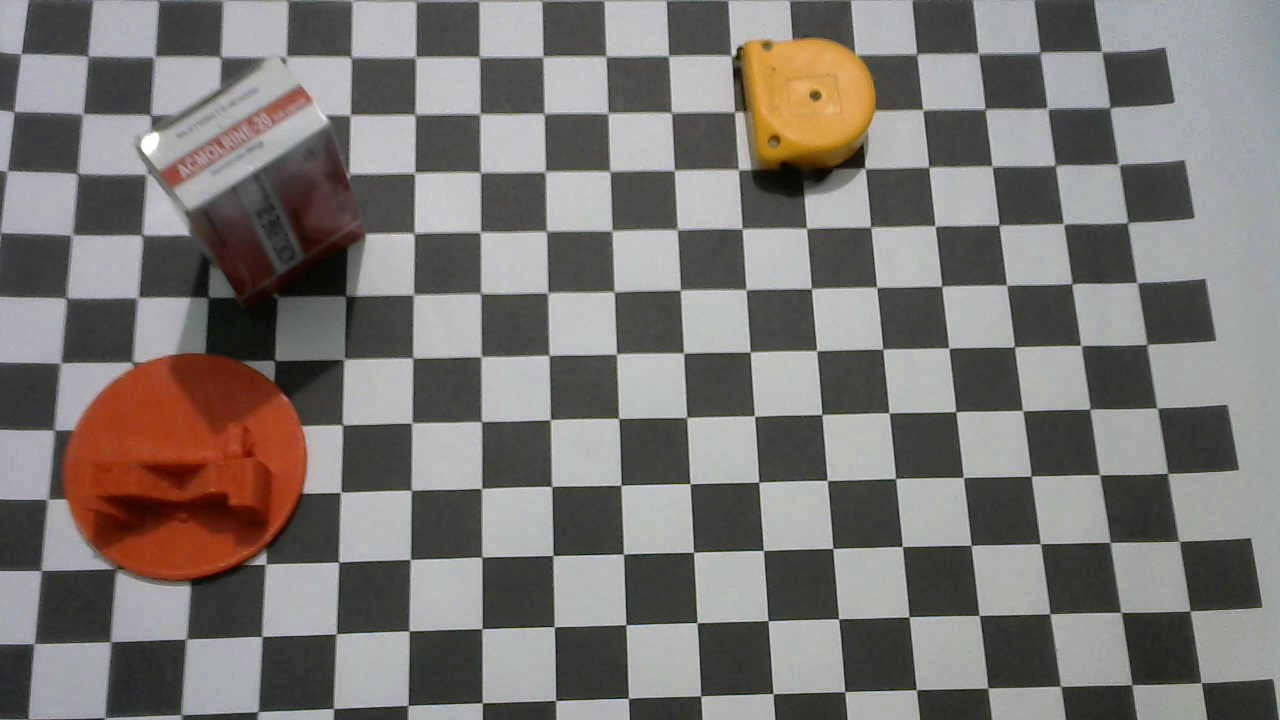blue: (737, 37, 878, 173)
green: (59, 354, 310, 581)
red: (130, 57, 369, 302)
